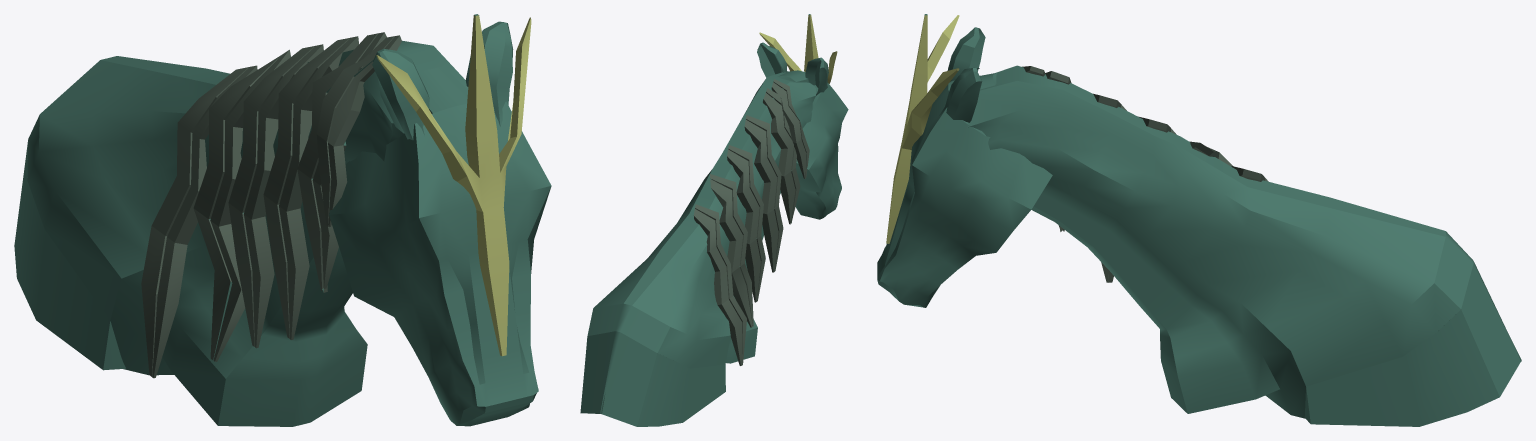
File: PosiedonHead.fbx
The picture shows the model from 3 angles, left to right: view 1: azimuth 30°, elevation 25°; view 2: azimuth 150°, elevation 25°; view 3: azimuth 270°, elevation 25°; orthographic projection. The views are drawn at different scales.
Visible parts, largest first — view 1: Head2; view 2: Head2; view 3: Head2.
Part boxes in pixels (left/top/right/bottom): Head2: left=14, top=14, right=551, bottom=426; Head2: left=580, top=14, right=848, bottom=426; Head2: left=877, top=14, right=1521, bottom=426.
Bounding box in the file's own units: 9.76 × 24.92 × 38.12.
